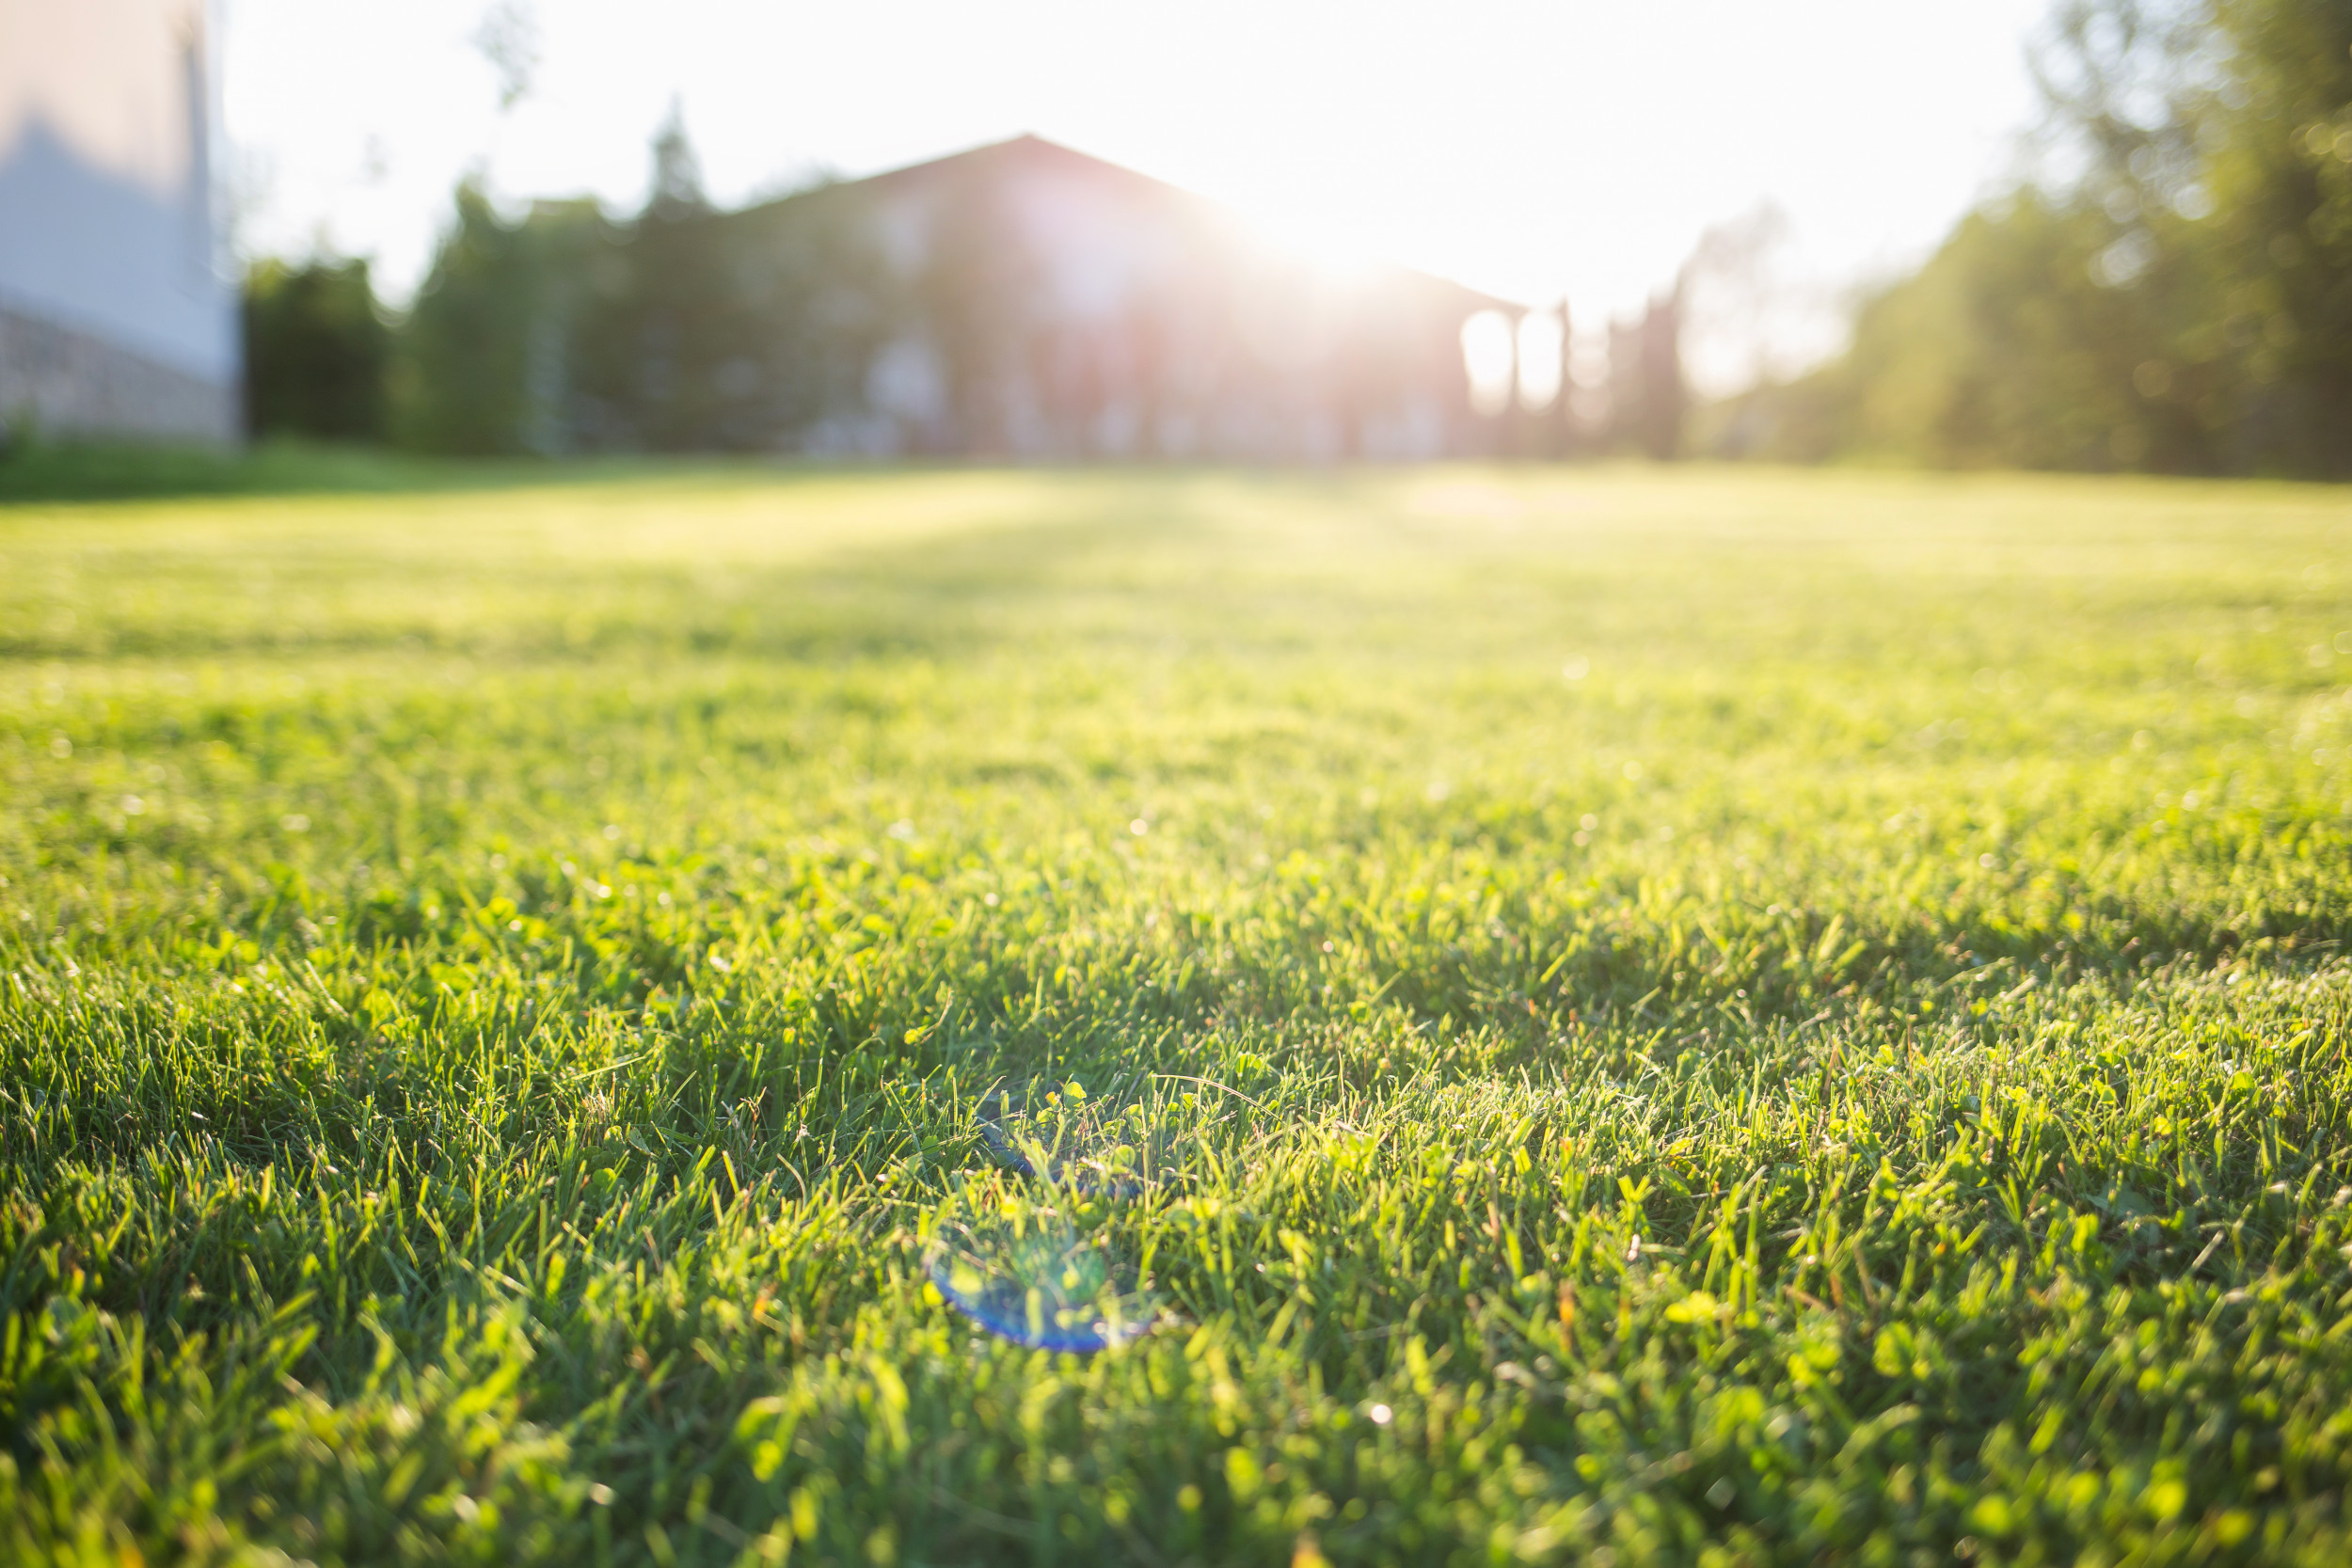grass: (2, 842, 2352, 1568)
